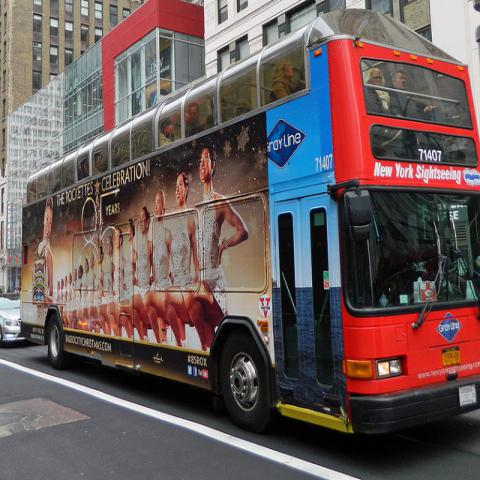bus: (18, 6, 479, 438)
car: (0, 296, 26, 343)
